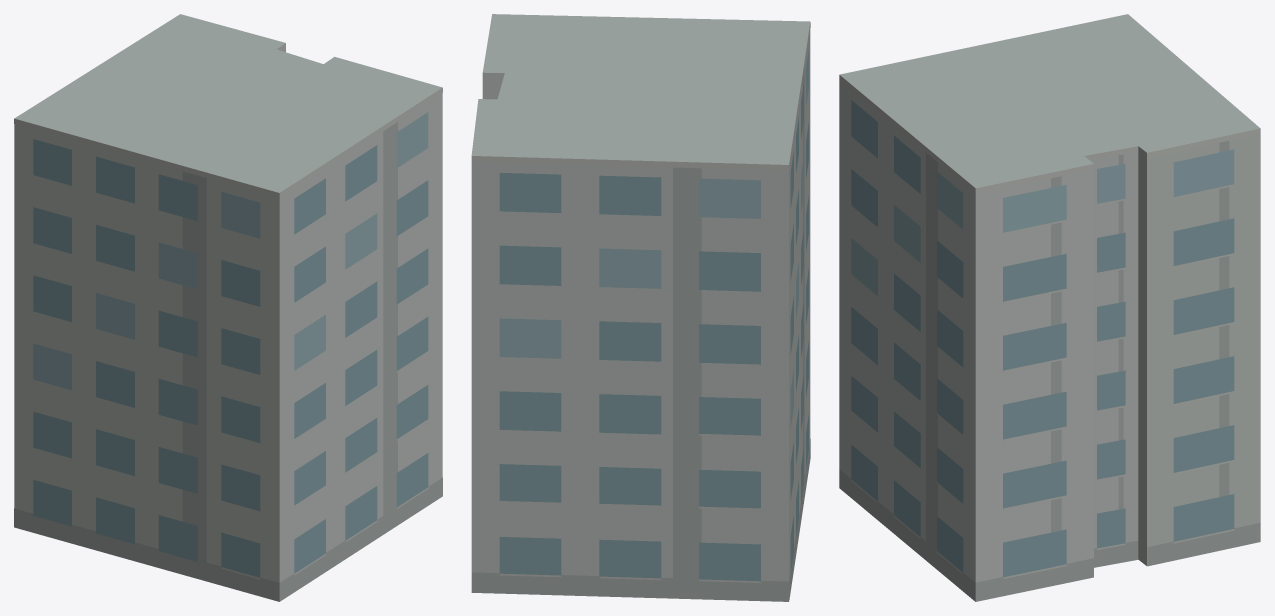
Rendered from survey-upis-32708346.glb.
3 renders of one model, left to right at view 1: azimuth 30°, elevation 25°; view 2: azimuth 150°, elevation 25°; view 3: azimuth 270°, elevation 25°, orthographic. The views are drawn at different scales.
Visible parts, largest first — view 1: survey-upis-32708346.tmp; view 2: survey-upis-32708346.tmp; view 3: survey-upis-32708346.tmp.
Boxes of the visible parts, x1=… form: survey-upis-32708346.tmp: x1=14, y1=14, x2=442, y2=601; survey-upis-32708346.tmp: x1=471, y1=14, x2=810, y2=601; survey-upis-32708346.tmp: x1=839, y1=14, x2=1260, y2=601.
Bounding box in the file's own units: 16.55 × 18.3 × 16.9.
